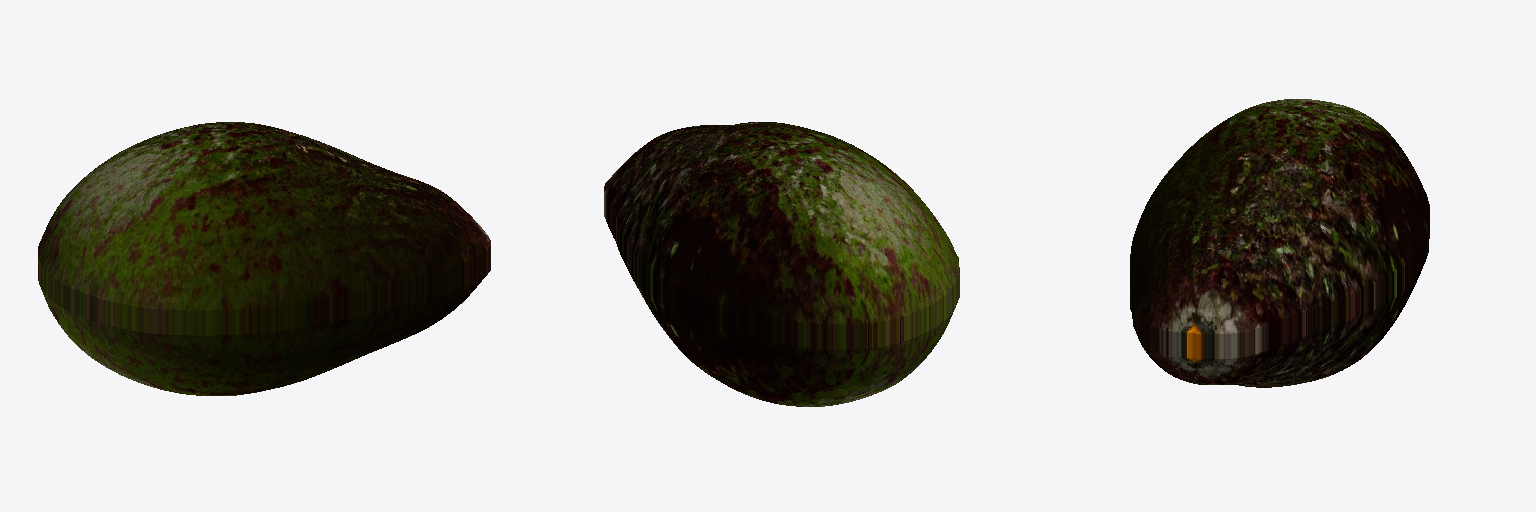
3 views of the same model, side by side, from view 1: azimuth 30°, elevation 25°; view 2: azimuth 150°, elevation 25°; view 3: azimuth 270°, elevation 25° (orthographic).
Visible parts, largest first — view 1: Grid; view 2: Grid; view 3: Grid.
Boxes of the visible parts, <box> form: Grid: <box>38,122,490,395</box>; Grid: <box>604,122,959,406</box>; Grid: <box>1130,99,1429,387</box>.
Bounding box in the file's own units: 1.88 × 1.2 × 1.31.
1 materials, 1 textured.